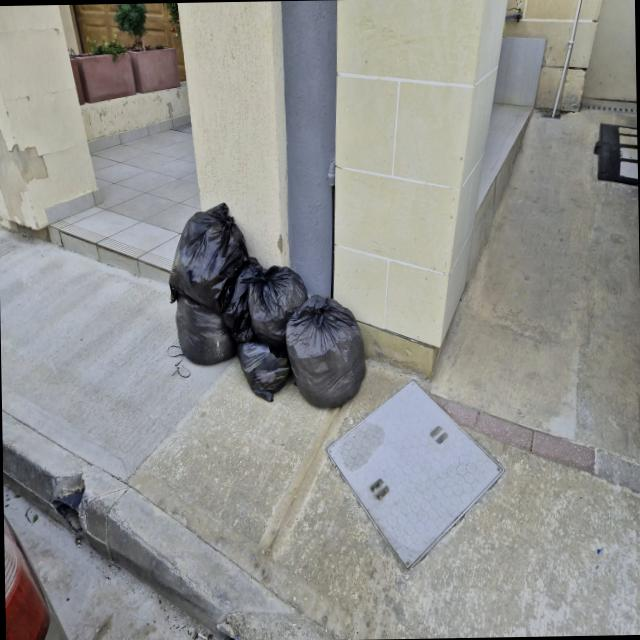black_bag: (160, 188, 256, 302), (293, 288, 370, 419), (235, 254, 325, 340), (227, 326, 310, 396), (172, 294, 234, 370)
